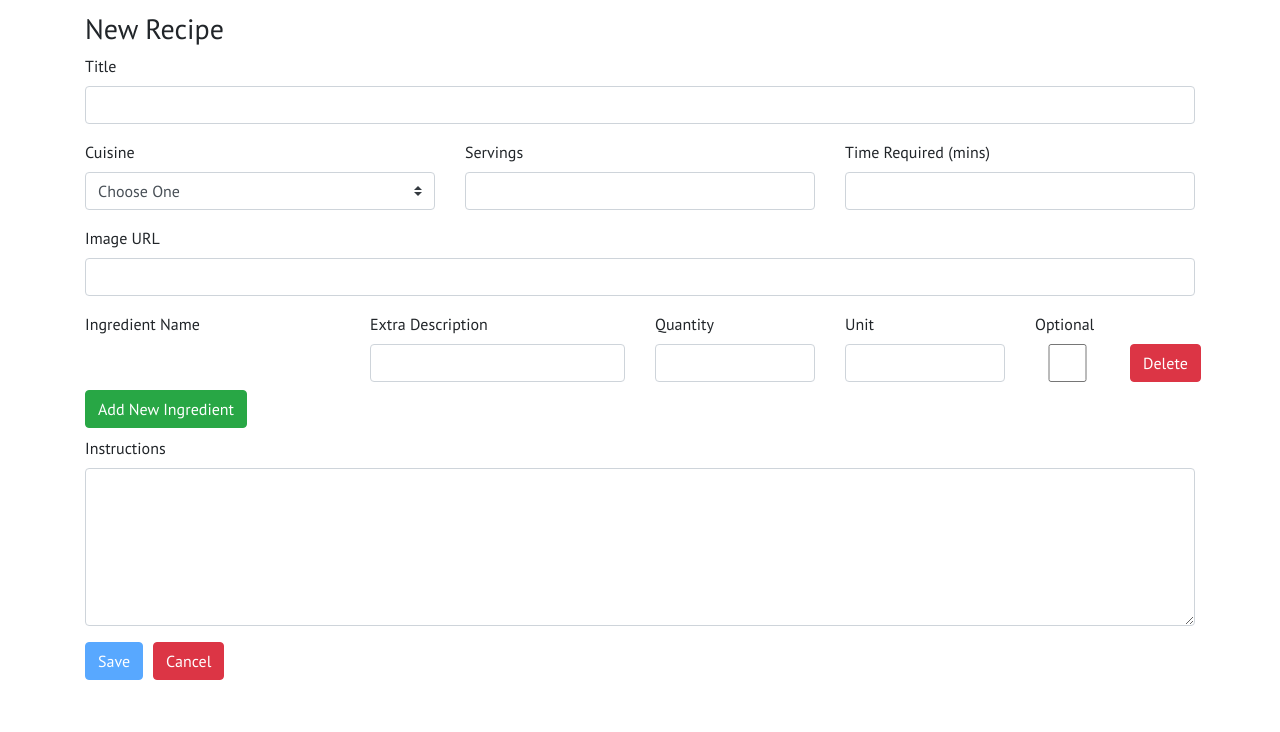
Test: Recipe Form › when add new ingredient button is clicked, new row of ingredient inputs is added
Click the button "Add New Ingredient" at [166, 409], box 85,390 -> 247,428
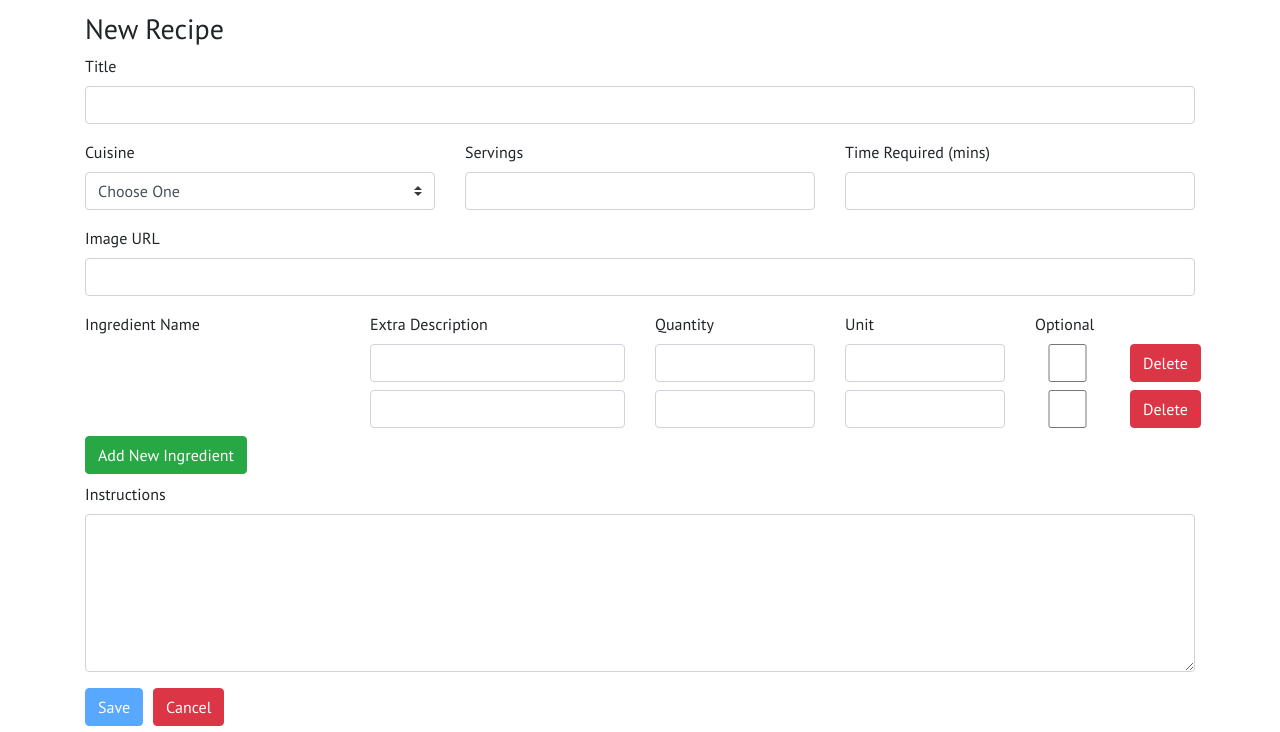
Now the number of elements with test id "ingredients-row" is 2, box 370,344 -> 1201,382; 370,390 -> 1201,428
